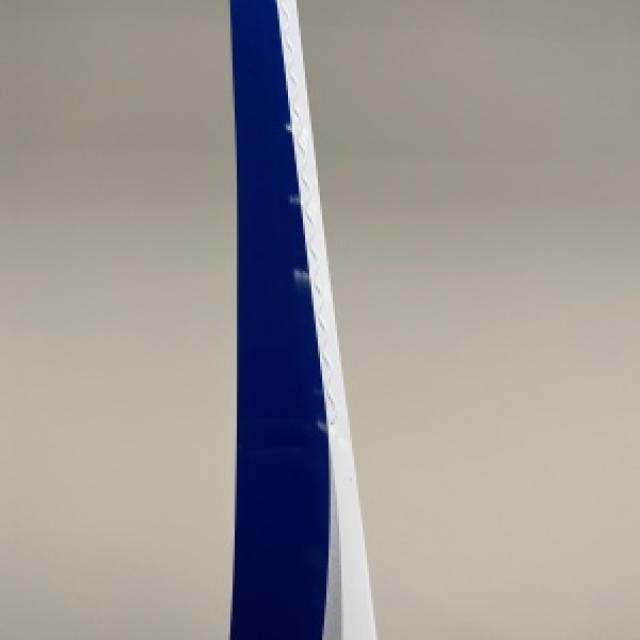healthy: (230, 0, 371, 638)
